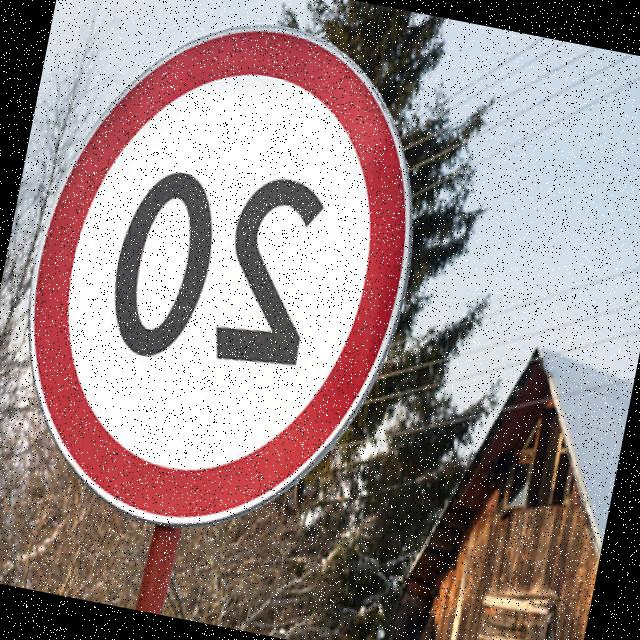speed_limit_20: (0, 0, 461, 579)
